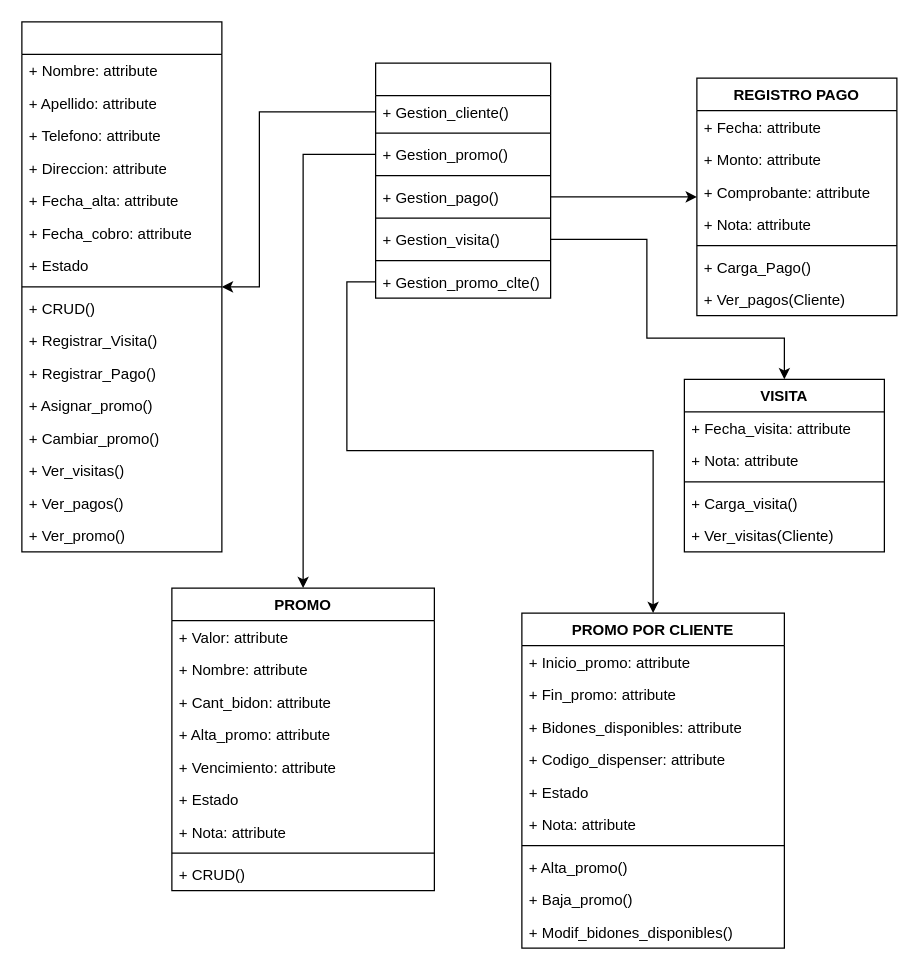
Image size: 919x974. Some labels were removed from this diagram. The box of each missing label's shape, as (x1, y1, x2, y2) in pixels:
CLIENTE: (21, 21, 222, 552)
GESTIONES: (374, 62, 551, 298)
